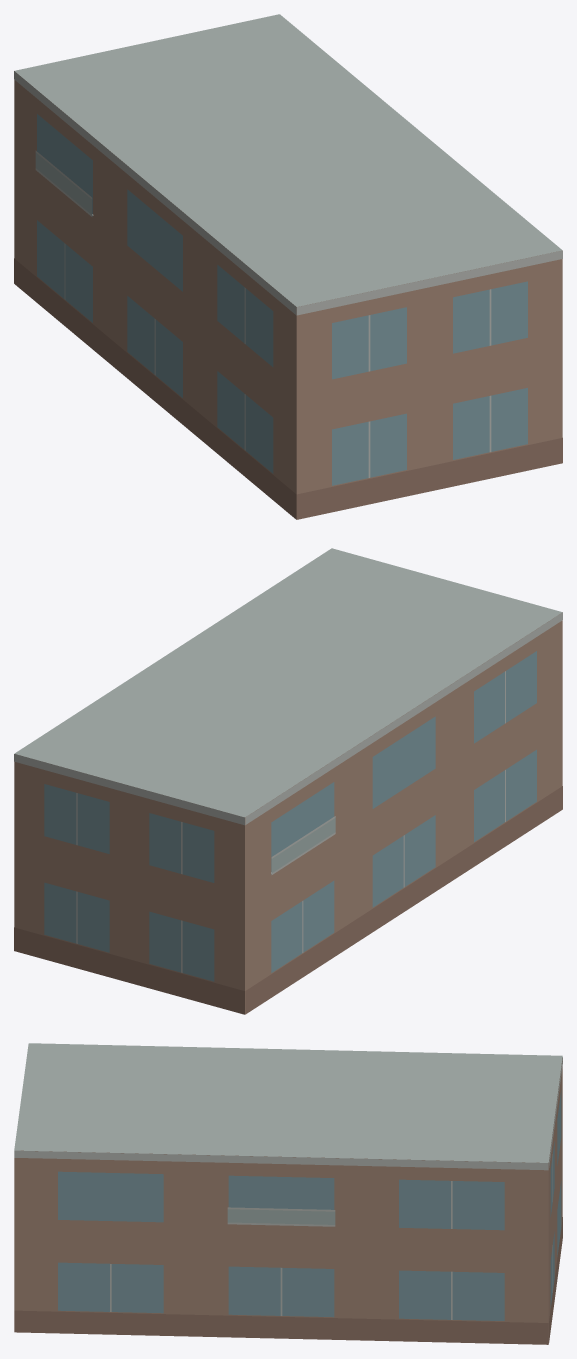
The model's file is survey-upis-32894385.glb.
3 renders of one model, top to bottom at view 1: azimuth 30°, elevation 25°; view 2: azimuth 150°, elevation 25°; view 3: azimuth 270°, elevation 25°, orthographic. The views are drawn at different scales.
Parts seen in each view (by area): view 1: survey-upis-32894385.tmp; view 2: survey-upis-32894385.tmp; view 3: survey-upis-32894385.tmp.
Part boxes in pixels (<box>): survey-upis-32894385.tmp: <box>14,14,562,519</box>; survey-upis-32894385.tmp: <box>14,548,562,1014</box>; survey-upis-32894385.tmp: <box>14,1043,562,1344</box>.
Size of the model in its own units: 8.64 by 6.1 by 16.7.
